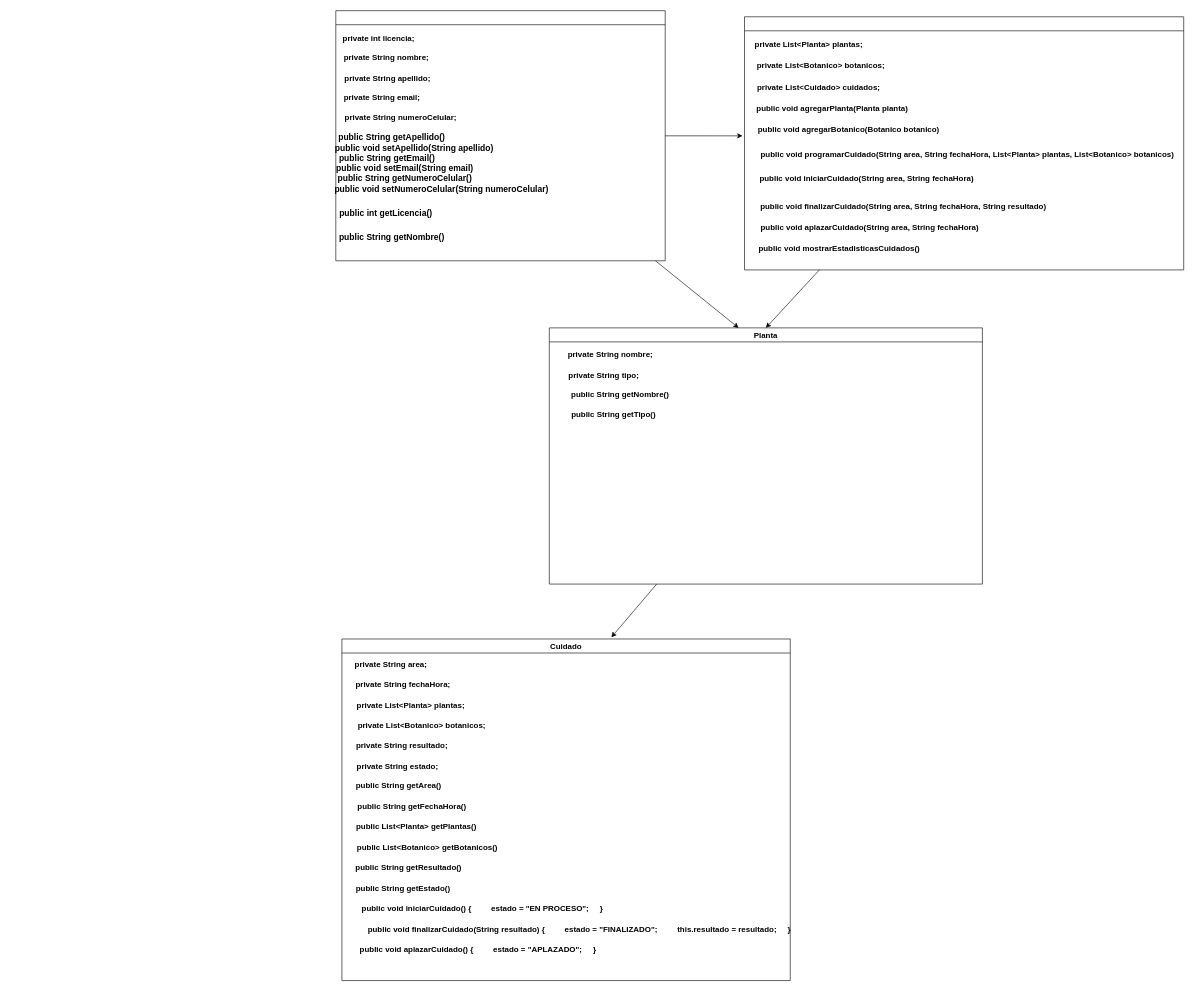
The diagram is 1194 pixels wide and 991 high, and some of its shapes have lost their labels. The box of each missing label's shape, as (x1, y1, x2, y2) in pixels:
Botanico: (335, 10, 665, 261)
CentroBotanico: (744, 16, 1184, 270)
